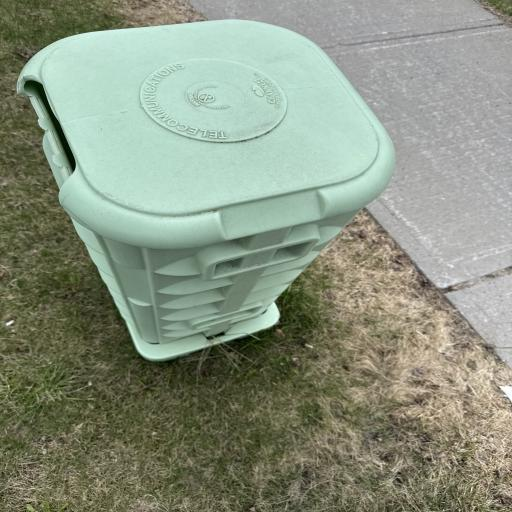Electrical Box: (14, 18, 394, 362)
